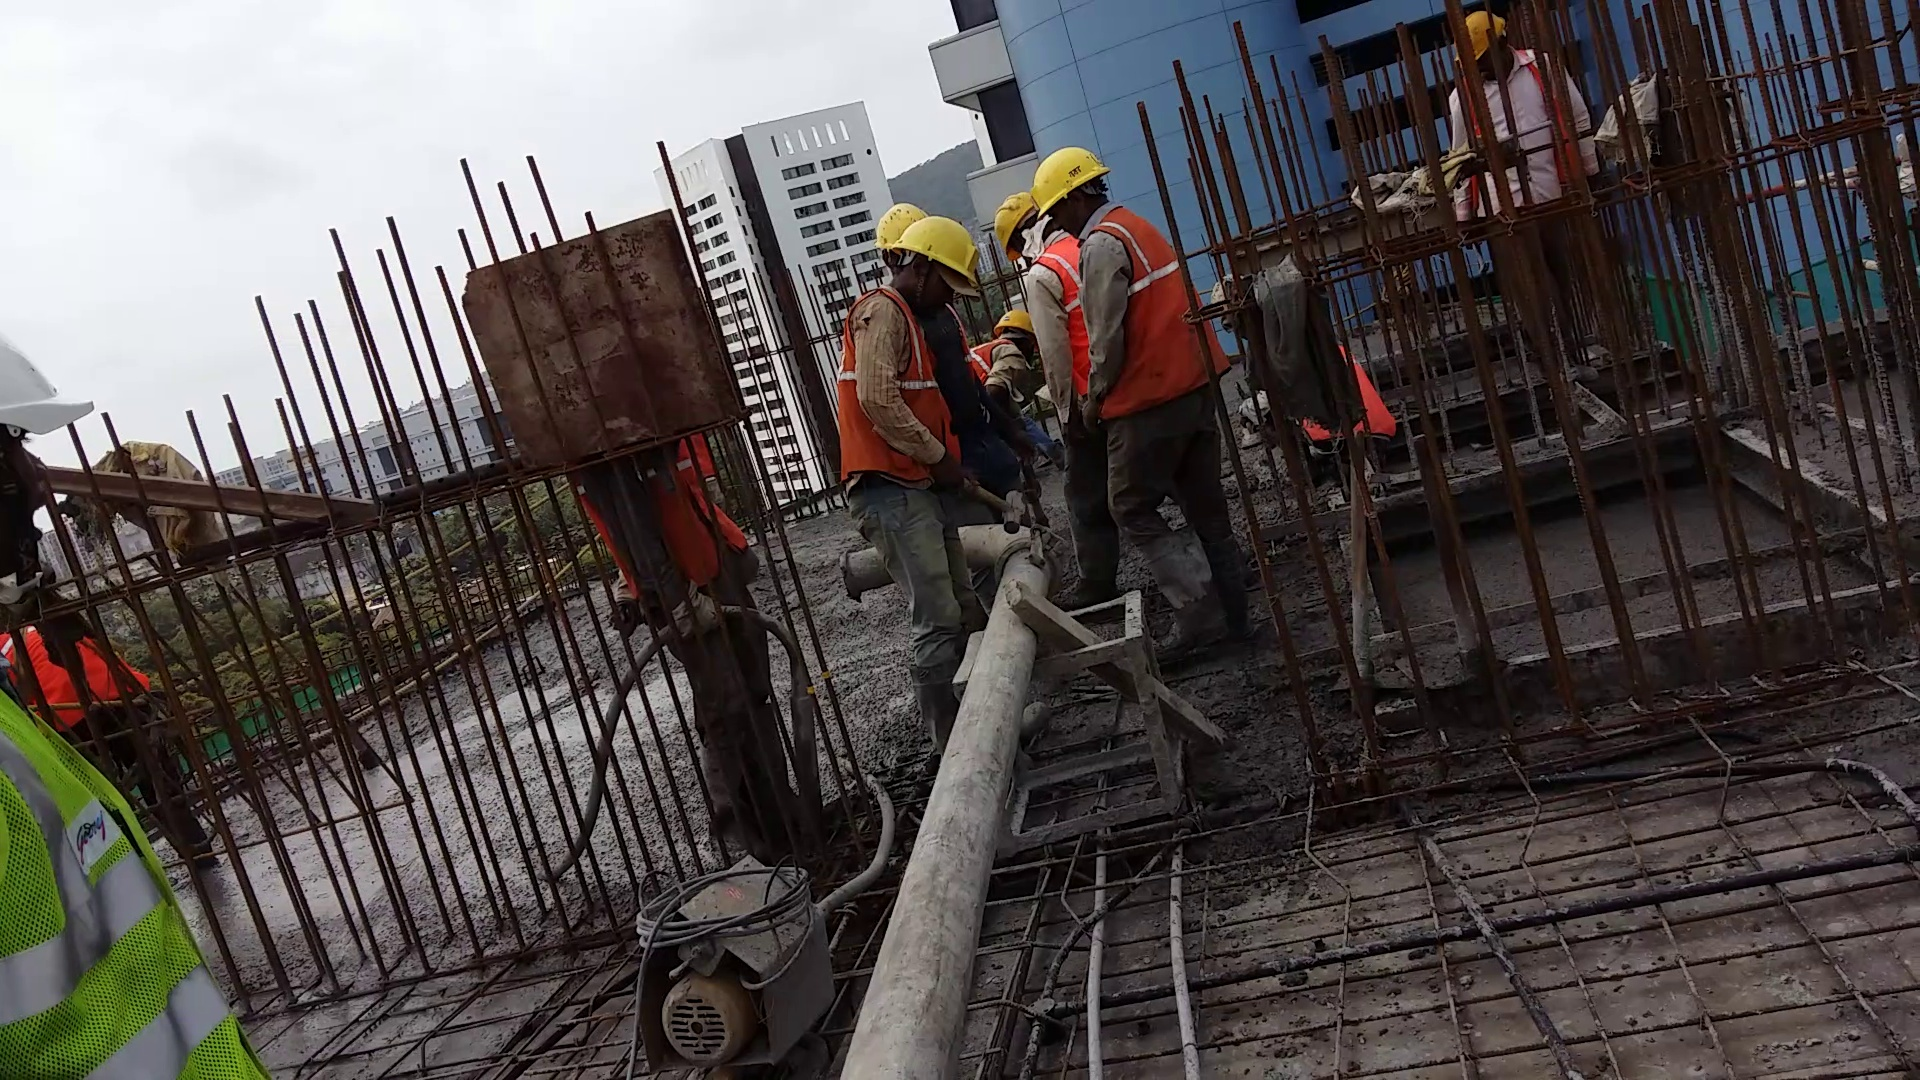SAFE: (1033, 140, 1195, 419), (837, 212, 977, 469)
